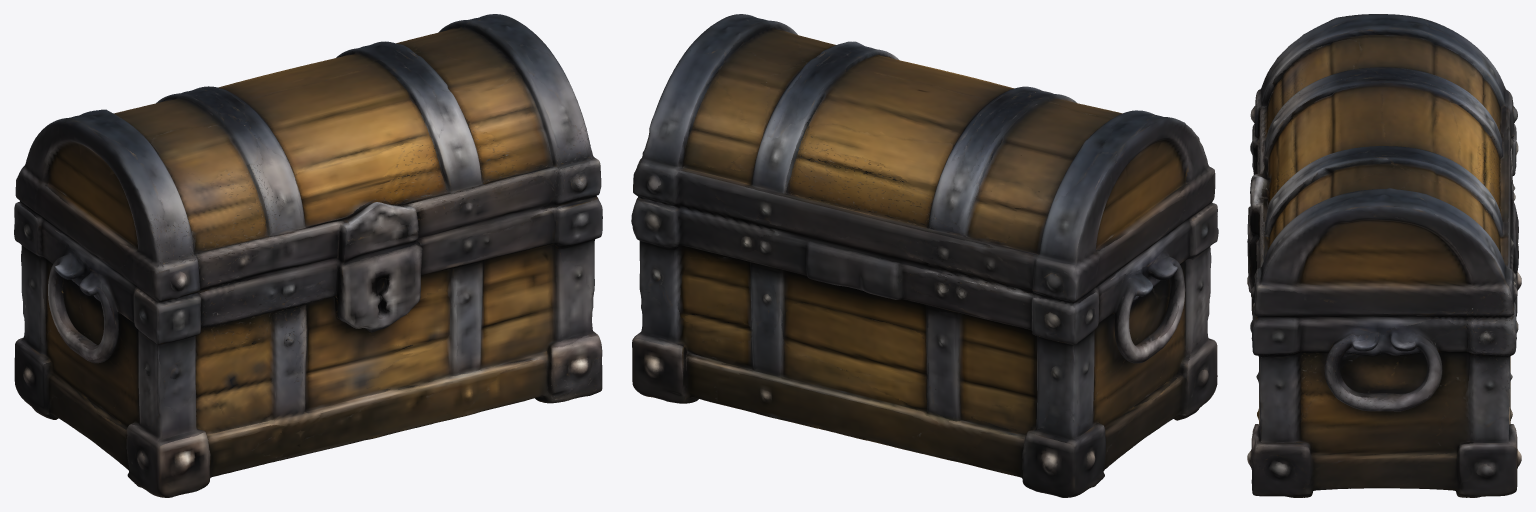
File: chest.glb
3 views of the same model, side by side, from view 1: azimuth 30°, elevation 25°; view 2: azimuth 150°, elevation 25°; view 3: azimuth 270°, elevation 25° (orthographic). The views are drawn at different scales.
Visible parts, largest first — view 1: material; view 2: material; view 3: material.
Boxes of the visible parts, x1,y1,x2,y2 form: material: [14, 14, 602, 497]; material: [631, 14, 1218, 497]; material: [1247, 14, 1521, 497].
Size of the model in its own units: 0.9669 by 0.6316 by 0.5314.
1 material, 1 textured.
